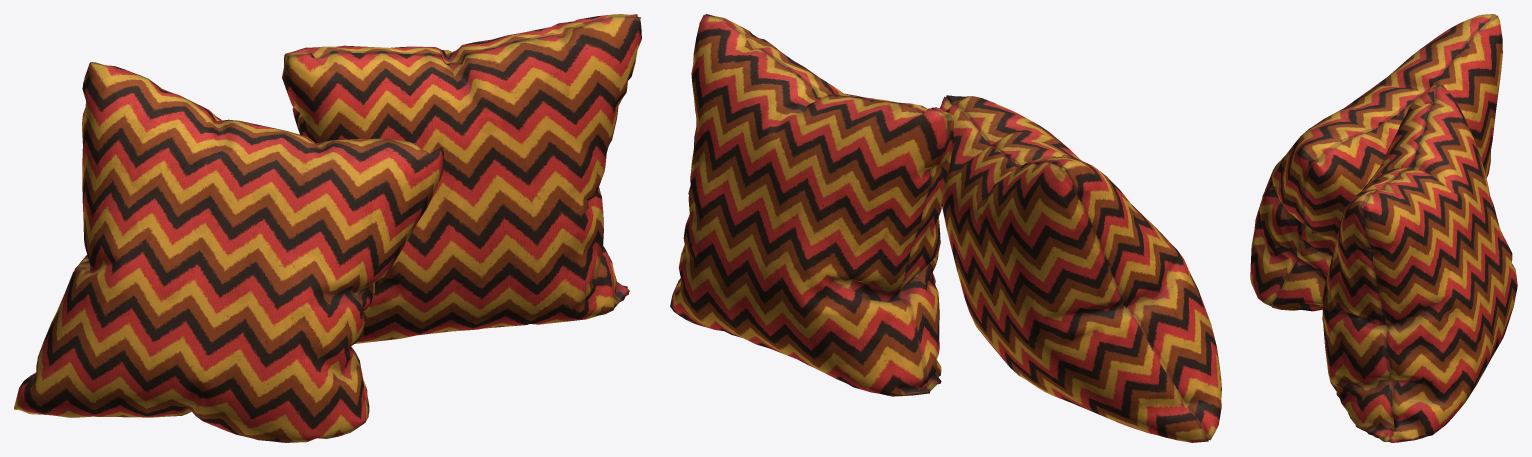
Rendered from pillows.glb.
3 views of the same model, side by side, from view 1: azimuth 30°, elevation 25°; view 2: azimuth 150°, elevation 25°; view 3: azimuth 270°, elevation 25° (orthographic). The views are drawn at different scales.
Visible parts, largest first — view 1: throw_pillows_01_pillow01, throw_pillows_01_pillow02; view 2: throw_pillows_01_pillow02, throw_pillows_01_pillow01; view 3: throw_pillows_01_pillow02, throw_pillows_01_pillow01.
Part boxes in pixels (x1=…): throw_pillows_01_pillow01: x1=14, y1=62, x2=443, y2=442; throw_pillows_01_pillow02: x1=282, y1=14, x2=641, y2=343; throw_pillows_01_pillow02: x1=670, y1=14, x2=953, y2=396; throw_pillows_01_pillow01: x1=939, y1=95, x2=1221, y2=442; throw_pillows_01_pillow02: x1=1322, y1=84, x2=1517, y2=442; throw_pillows_01_pillow01: x1=1250, y1=14, x2=1502, y2=311.
Bounding box in the file's own units: 0.9401 × 0.4502 × 0.4519.
1 material, 1 textured.
